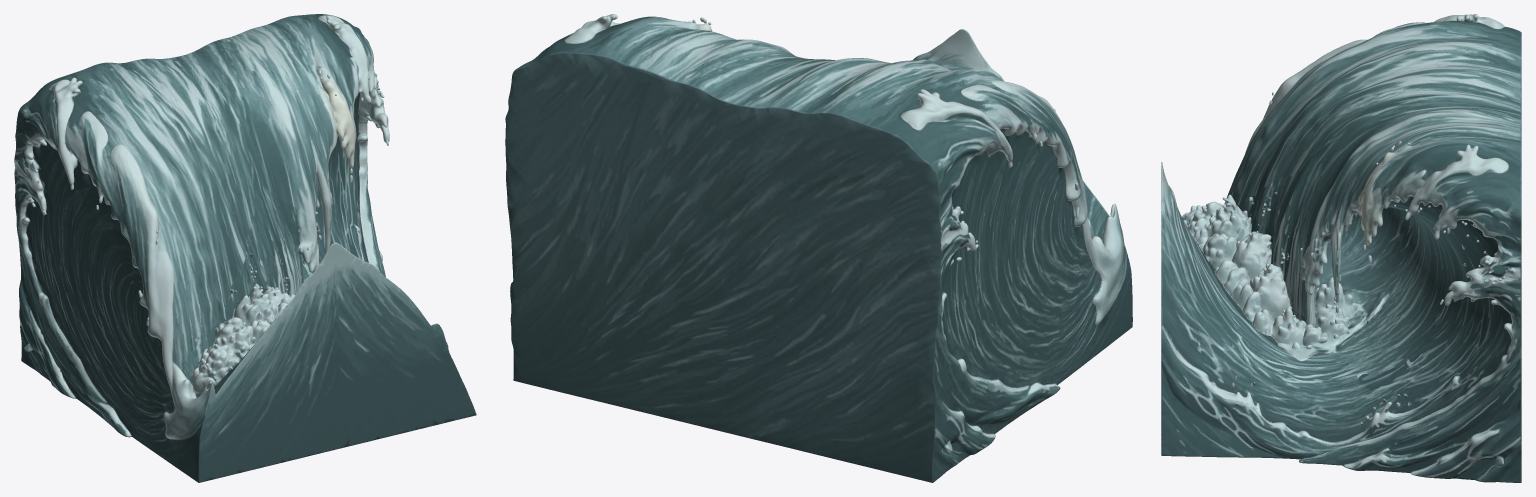
The model's file is page-09.glb.
The picture shows the model from 3 angles, left to right: view 1: azimuth 30°, elevation 25°; view 2: azimuth 150°, elevation 25°; view 3: azimuth 270°, elevation 25°; orthographic projection. The views are drawn at different scales.
Parts seen in each view (by area): view 1: tripo_node_e6acbfcd-f783-46e4-a42f-01cd4334f48d; view 2: tripo_node_e6acbfcd-f783-46e4-a42f-01cd4334f48d; view 3: tripo_node_e6acbfcd-f783-46e4-a42f-01cd4334f48d.
Boxes of the visible parts, x1,y1,x2,y2 form: tripo_node_e6acbfcd-f783-46e4-a42f-01cd4334f48d: (14,14,476,482); tripo_node_e6acbfcd-f783-46e4-a42f-01cd4334f48d: (505,14,1132,482); tripo_node_e6acbfcd-f783-46e4-a42f-01cd4334f48d: (1161,14,1521,482).
Size of the model in its own units: 0.9999 by 0.7788 by 0.8213.
Materials: 1 (1 with a texture image).
